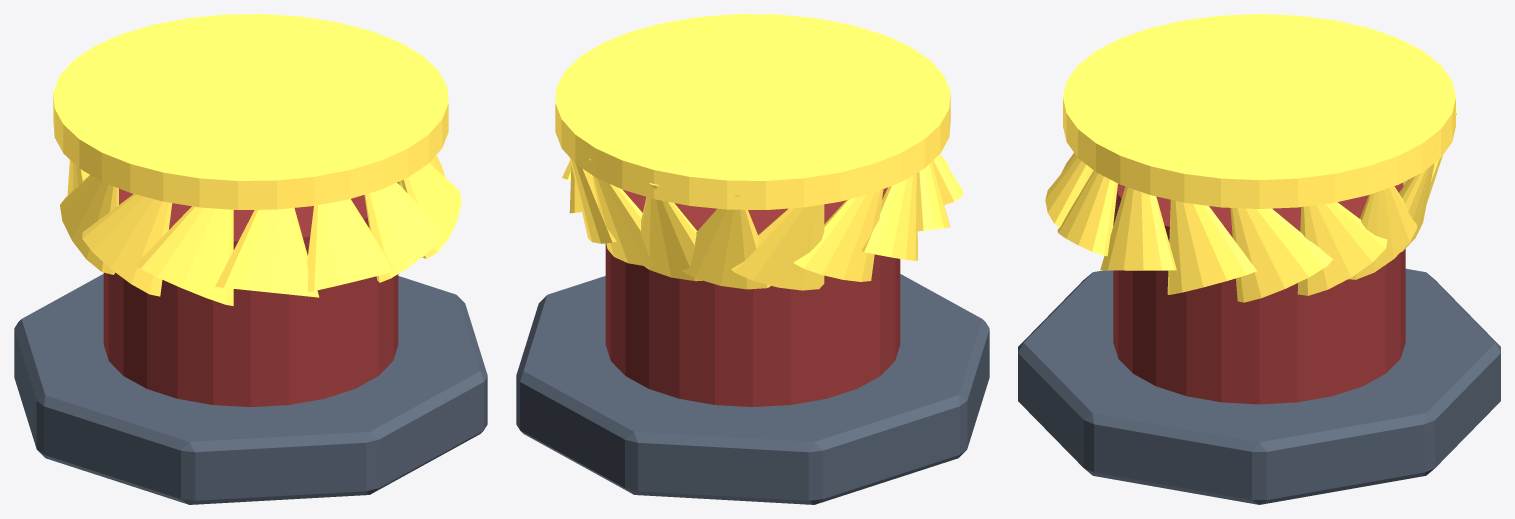
The model's file is lotus_pedestal_high.glb.
The picture shows the model from 3 angles, left to right: view 1: azimuth 30°, elevation 25°; view 2: azimuth 150°, elevation 25°; view 3: azimuth 270°, elevation 25°; orthographic projection.
Visible parts, largest first — view 1: Cylinder.002, Cylinder, Cylinder.001, Cone.010, Cone.011, Cone.012, Cone.009, Cone.013, Cone.008, Cone.014; view 2: Cylinder.002, Cylinder, Cylinder.001, Cone.006, Cone.007, Cone.005, Cone.004, Cone.008, Cone.003, Cone.009, Cone.002, Cone.010; view 3: Cylinder.002, Cylinder, Cylinder.001, Cone, Cone.015, Cone.001, Cone.014, Cone.013, Cone.002, Cone.012, Cone.003.
Part boxes in pixels (x1,y1,x2,y2): Cylinder.002: (53,14,448,209); Cylinder: (14,274,487,504); Cylinder.001: (103,182,398,406); Cone.010: (135,206,233,305); Cone.011: (215,208,319,297); Cone.012: (307,199,394,292); Cone.009: (82,194,172,296); Cone.013: (364,183,446,282); Cone.008: (60,175,118,274); Cone.014: (401,163,461,258); Cylinder.002: (555,14,950,209); Cylinder: (516,274,989,504); Cylinder.001: (605,187,900,406); Cone.006: (731,204,824,290); Cone.007: (793,189,883,281); Cone.005: (681,195,770,289); Cone.004: (640,183,702,281); Cone.008: (861,172,917,260); Cone.003: (589,159,658,266); Cone.009: (915,162,950,231); Cone.002: (570,158,616,243); Cone.010: (932,154,963,204); Cylinder.002: (1063,14,1455,208); Cylinder: (1018,268,1500,504); Cylinder.001: (1113,183,1405,404); Cone: (1230,208,1332,302); Cone.015: (1167,200,1256,294); Cone.001: (1297,202,1387,295); Cone.014: (1100,186,1176,270); Cone.013: (1057,170,1117,256); Cone.002: (1348,186,1417,279); Cone.012: (1045,155,1093,227); Cone.003: (1399,146,1437,252).
Size of the model in its own units: 1.82 by 1.28 by 1.82.
